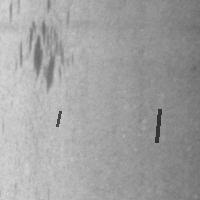inclusion: (14, 12, 72, 92), (154, 107, 161, 144), (55, 109, 62, 128)
